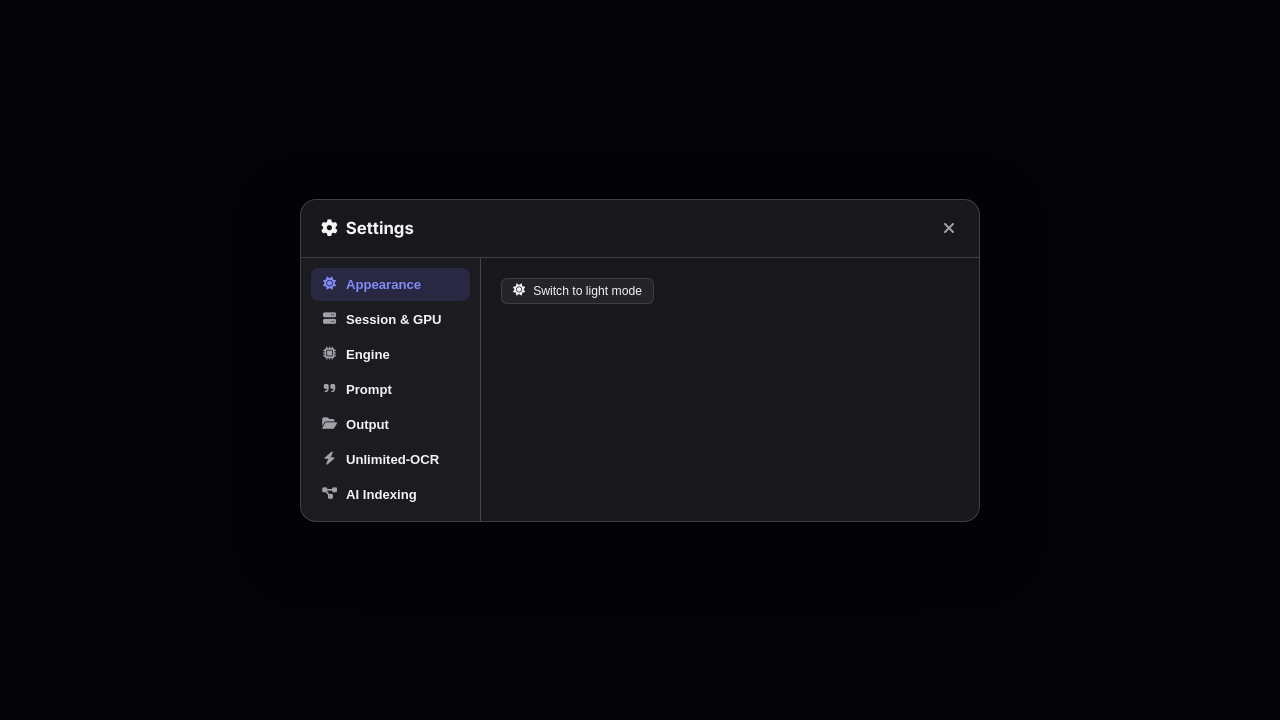
Test: SettingsModal — idle/GPU status › shows the idle pill and GPU pill for admin when gpuStatus has resolved
Click the button with test id "settings-nav-session". click: coordinates (390, 319)
box: x1=311 y1=302 x2=470 y2=336
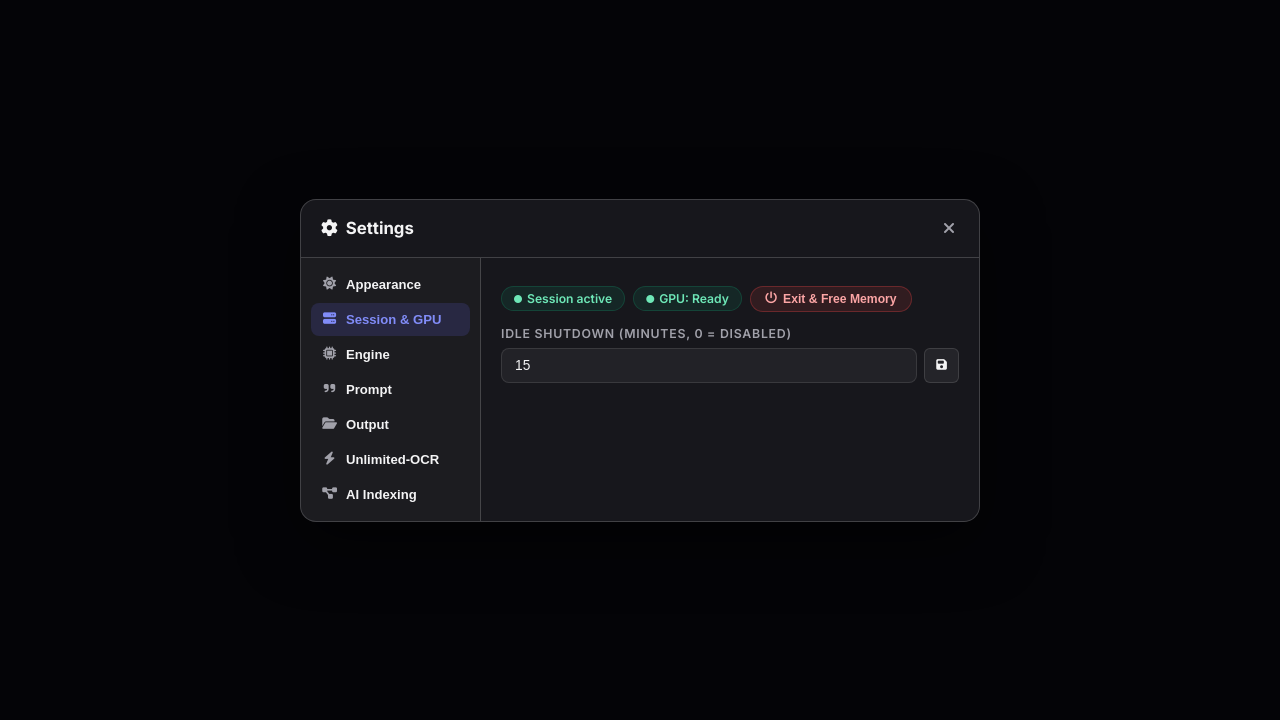
Result: the element with test id "gpu-status-pill" reads "GPU: Ready" at x1=659 y1=291 x2=729 y2=306
